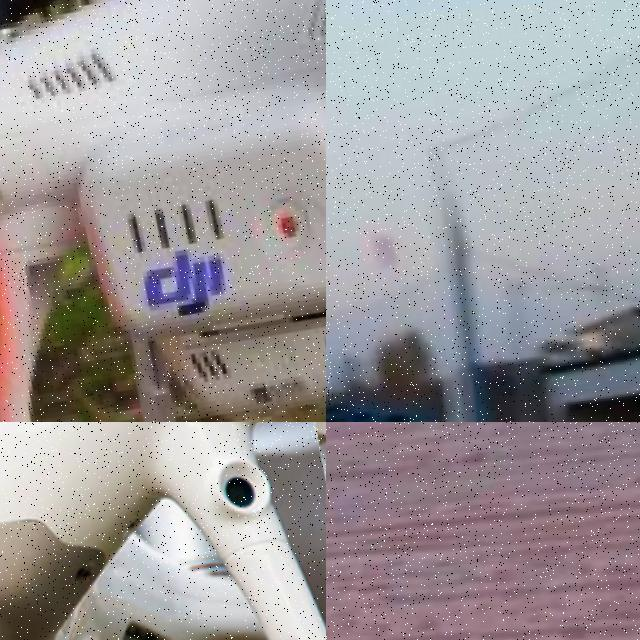drone: (0, 0, 326, 422), (0, 422, 326, 640)
